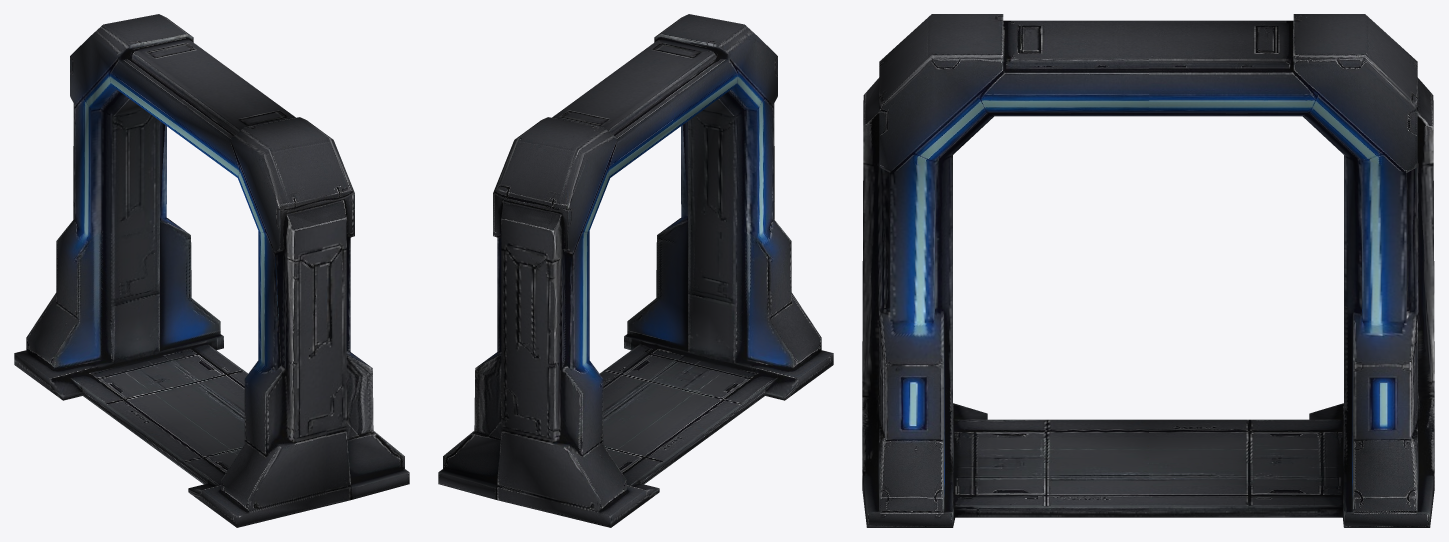
File: door.glb
3 renders of one model, left to right at view 1: azimuth 30°, elevation 25°; view 2: azimuth 150°, elevation 25°; view 3: azimuth 270°, elevation 25°, orthographic. The views are drawn at different scales.
Visible parts, largest first — view 1: tripo_node_9f2cc890-6d8a-423e-963c-d1b58ee35e4e; view 2: tripo_node_9f2cc890-6d8a-423e-963c-d1b58ee35e4e; view 3: tripo_node_9f2cc890-6d8a-423e-963c-d1b58ee35e4e.
Boxes of the visible parts, x1,y1,x2,y2 form: tripo_node_9f2cc890-6d8a-423e-963c-d1b58ee35e4e: (14, 14, 409, 527); tripo_node_9f2cc890-6d8a-423e-963c-d1b58ee35e4e: (438, 14, 833, 527); tripo_node_9f2cc890-6d8a-423e-963c-d1b58ee35e4e: (862, 14, 1434, 527).
Size of the model in its own units: 0.4512 by 0.8535 by 0.998.
Materials: 1 (1 with a texture image).
